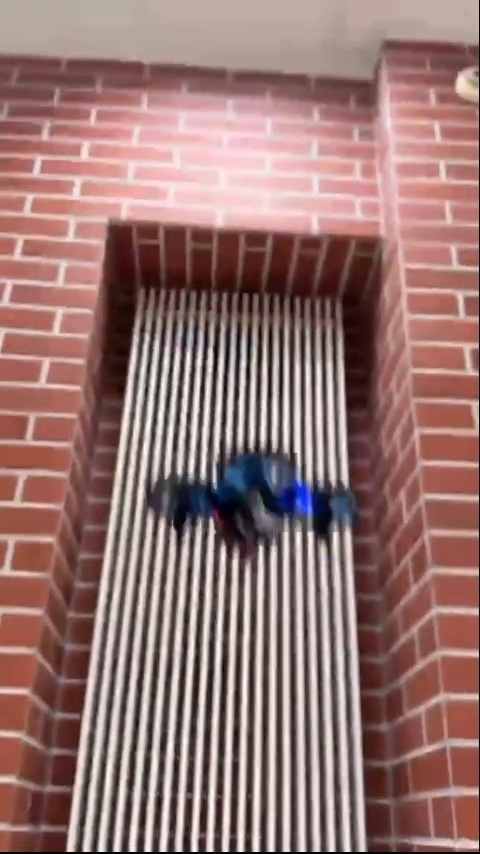drone: (141, 450, 360, 543)
